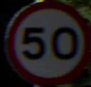Speed limit: (11, 6, 84, 76)
